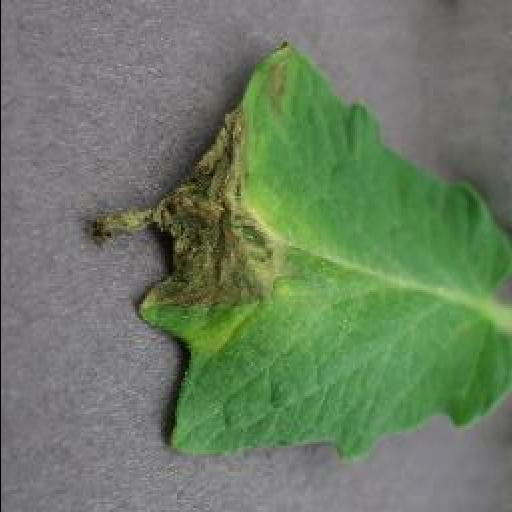disease_tomato: (84, 44, 512, 462)
